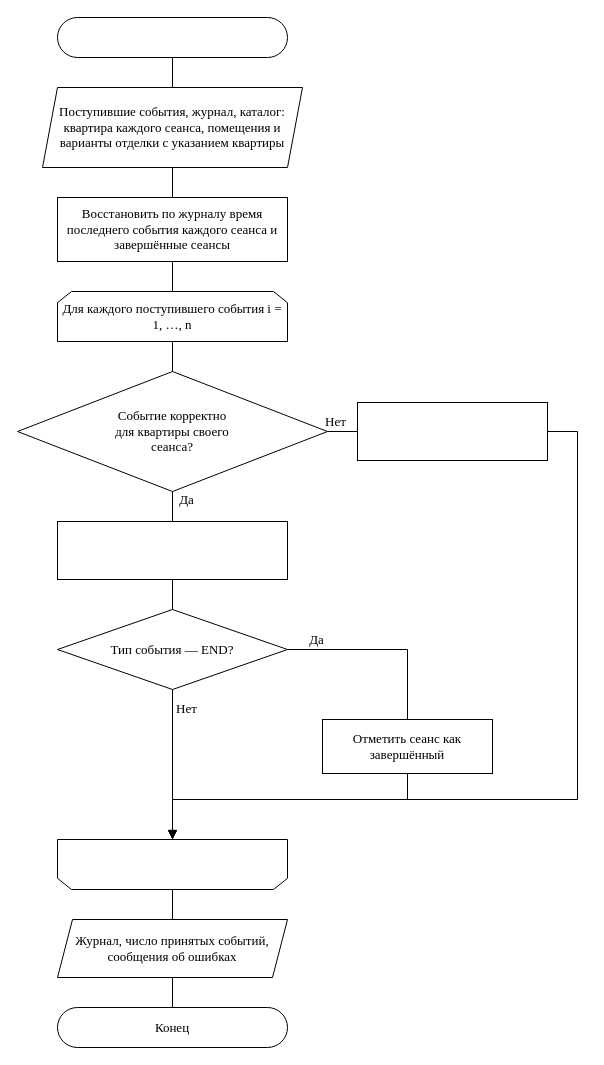
The diagram is 604 pixels wide and 1065 high, and some of its shapes have lost their labels. The shapes that lost their labels are listed below. From the top down, each one's centre as x and y in pixels, then its label:
At point (172, 37): "Начало".
At point (452, 431): "Добавить сообщение об ошибке с указанием причины".
At point (172, 550): "Добавить событие в журнал, запомнить его время для сеанса".
At point (172, 864): "Конец цикла".
